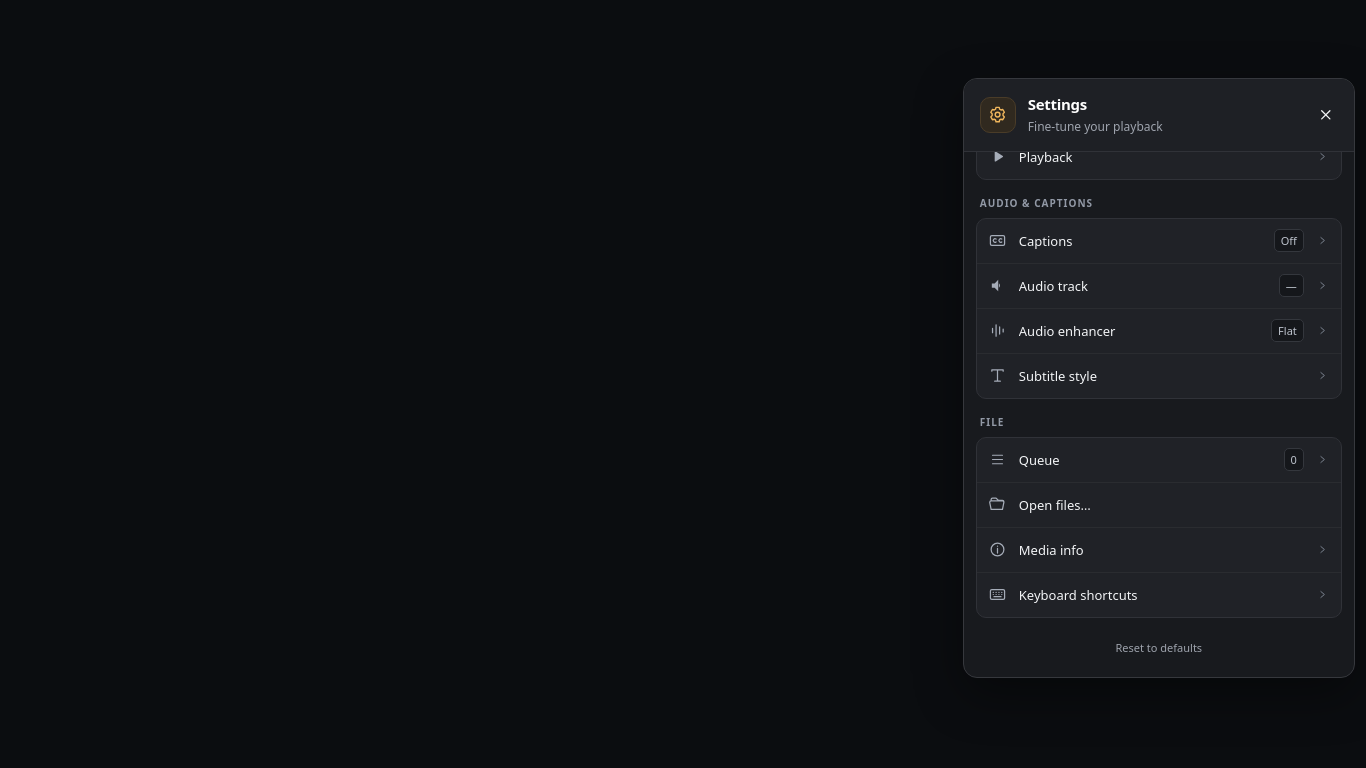
Test case: SettingsPopup › renders separate nowrap shortcut chips for ← and →
This screenshot has width=1366, height=768.
(page scrolled)
Click the button "Keyboard shortcuts": (1078, 594) left=977, top=572, right=1341, bottom=616
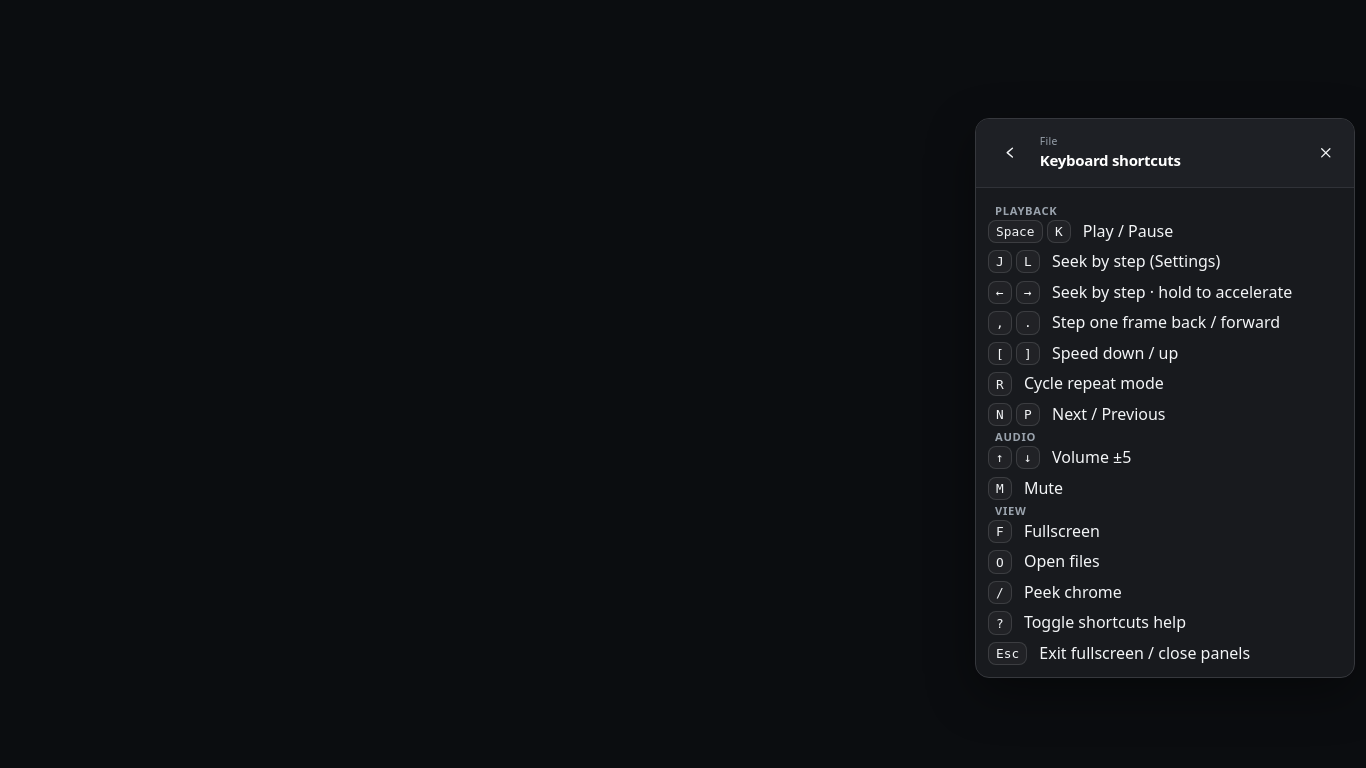
Expected: the text "→" is not shown
Expected: the text "←" is shown, left=988, top=281, right=1012, bottom=304
Expected: the text "→" is shown, left=1016, top=281, right=1040, bottom=304
